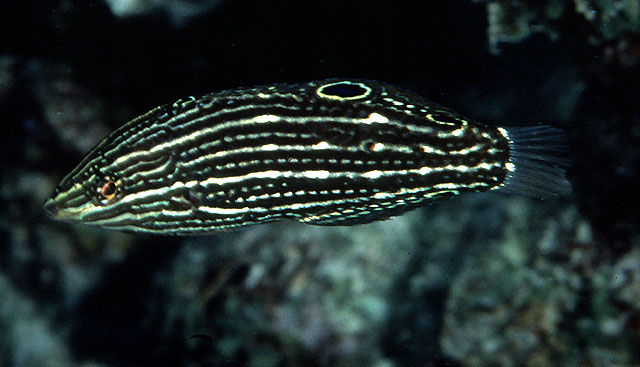fish: (42, 79, 573, 235)
